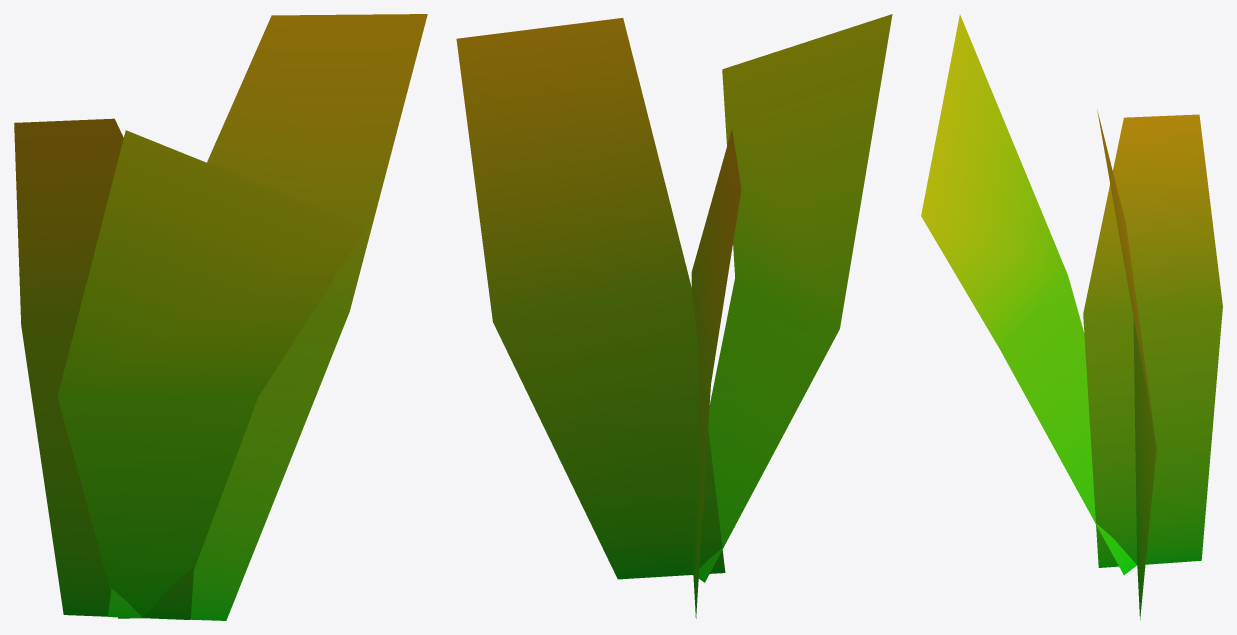
The model's file is Ocean Seaweed_LOD1_Var5_sdDgS.fbx.
3 renders of one model, left to right at view 1: azimuth 30°, elevation 25°; view 2: azimuth 150°, elevation 25°; view 3: azimuth 270°, elevation 25°, orthographic. The views are drawn at different scales.
Visible parts, largest first — view 1: merge1; view 2: merge1; view 3: merge1.
Part boxes in pixels (bbox=[...]): merge1: bbox=[14, 14, 427, 620]; merge1: bbox=[456, 14, 892, 618]; merge1: bbox=[921, 15, 1222, 619].
Bounding box in the file's own units: 20.4 × 29.85 × 15.66.
